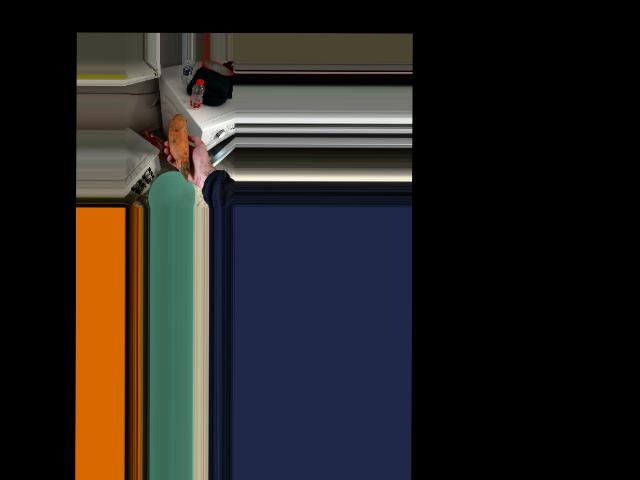sweet_potato: (168, 120, 191, 174)
